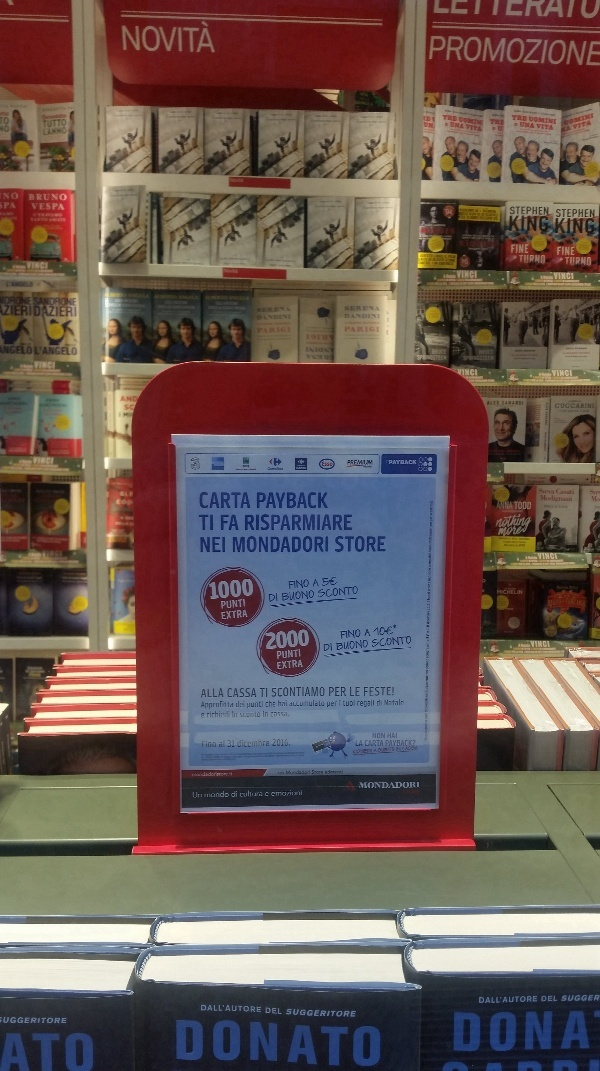text: (424, 499, 432, 744), (177, 1016, 192, 1070), (193, 1016, 208, 1070), (209, 1016, 224, 1070), (225, 1016, 240, 1070), (241, 1016, 256, 1070), (257, 1016, 272, 1070), (273, 1016, 288, 1070), (289, 1016, 304, 1070), (305, 1016, 320, 1070), (321, 1016, 336, 1070), (337, 1016, 352, 1070), (353, 1016, 368, 1070), (465, 1008, 480, 1061), (481, 1008, 496, 1061), (497, 1008, 512, 1061), (513, 1008, 528, 1061), (529, 1008, 544, 1061), (545, 1008, 560, 1061), (561, 1008, 576, 1061), (577, 1008, 592, 1061), (369, 1016, 383, 1070), (433, 33, 448, 74), (449, 33, 464, 74), (465, 33, 480, 74), (481, 33, 496, 74), (497, 33, 512, 74), (513, 33, 528, 74), (529, 33, 544, 74), (545, 33, 560, 74), (561, 33, 576, 74), (577, 33, 592, 74), (453, 1008, 464, 1061), (129, 18, 144, 55), (145, 18, 160, 55), (161, 18, 176, 55), (177, 18, 192, 55), (193, 18, 208, 55), (17, 1033, 32, 1069), (33, 1033, 48, 1069), (49, 1033, 64, 1069), (65, 1033, 80, 1069), (81, 1033, 95, 1069), (257, 307, 272, 334), (273, 307, 288, 334), (497, 513, 512, 539), (513, 513, 528, 539), (209, 295, 224, 320), (225, 295, 240, 320), (209, 577, 224, 601), (225, 577, 240, 601), (449, 1, 464, 24), (465, 1, 480, 24), (481, 1, 496, 24), (497, 1, 512, 24), (513, 1, 528, 24), (529, 1, 544, 24), (545, 1, 560, 24), (561, 1, 576, 24), (577, 1, 592, 24), (337, 512, 353, 533), (241, 577, 255, 601), (273, 629, 288, 651), (289, 629, 304, 651), (7, 1033, 16, 1069), (434, 1, 448, 24), (257, 512, 272, 533), (273, 512, 288, 533), (289, 512, 304, 533), (305, 512, 320, 533), (321, 512, 336, 533), (337, 534, 352, 555), (353, 534, 368, 555), (369, 534, 384, 555), (513, 214, 528, 235), (529, 214, 544, 235), (241, 535, 256, 555), (257, 535, 272, 555), (273, 535, 288, 555), (289, 535, 304, 555), (305, 535, 320, 555), (209, 18, 217, 55), (385, 618, 399, 639), (593, 33, 600, 74), (209, 491, 224, 510), (225, 491, 240, 510), (561, 217, 576, 236), (577, 217, 592, 236), (257, 492, 272, 510), (273, 492, 288, 510), (289, 492, 304, 510), (305, 492, 320, 510), (225, 514, 240, 532), (209, 535, 224, 553), (121, 18, 128, 55), (385, 632, 400, 649), (245, 512, 256, 533), (373, 618, 384, 639), (289, 590, 304, 605), (577, 112, 592, 127), (241, 295, 250, 320), (17, 304, 32, 318), (321, 585, 336, 599), (337, 585, 352, 599), (372, 632, 384, 649), (49, 306, 64, 319), (289, 578, 304, 591), (289, 659, 304, 672), (337, 639, 352, 652), (353, 639, 368, 652), (273, 686, 288, 699), (289, 686, 304, 699), (305, 686, 320, 699), (577, 108, 593, 120), (241, 687, 257, 699), (241, 491, 251, 510), (401, 632, 412, 649), (34, 306, 48, 319), (49, 345, 64, 357), (49, 296, 64, 308), (49, 117, 64, 129), (225, 599, 240, 611), (225, 609, 240, 621), (465, 115, 480, 127), (564, 112, 576, 127), (577, 119, 592, 131), (529, 253, 544, 265), (209, 687, 224, 699), (369, 686, 384, 698), (513, 244, 529, 255), (4, 304, 16, 318), (34, 296, 48, 308), (498, 499, 512, 511), (33, 192, 48, 203), (49, 192, 64, 203), (17, 296, 32, 307), (17, 345, 32, 356), (529, 115, 544, 126), (561, 208, 576, 219), (577, 208, 592, 219), (513, 206, 528, 217), (529, 206, 544, 217), (577, 256, 592, 267), (241, 738, 256, 749), (289, 1008, 304, 1019), (305, 1008, 320, 1019), (321, 1008, 336, 1019), (337, 1008, 352, 1019), (199, 514, 208, 532), (593, 1, 600, 24), (321, 535, 329, 555), (35, 345, 48, 357), (65, 306, 77, 319), (323, 576, 336, 588), (563, 108, 576, 120), (34, 360, 48, 371), (561, 246, 575, 257), (200, 491, 208, 510), (33, 202, 48, 212), (49, 202, 64, 212), (33, 456, 48, 466), (305, 590, 315, 605), (545, 494, 560, 504), (209, 700, 224, 710), (385, 698, 400, 708), (193, 768, 208, 778), (209, 768, 224, 778), (273, 788, 288, 798), (209, 1004, 224, 1014), (225, 1004, 240, 1014), (241, 1004, 256, 1014), (481, 995, 496, 1005), (497, 995, 512, 1005), (513, 995, 528, 1005), (33, 261, 49, 270), (65, 345, 77, 357), (65, 296, 77, 308), (228, 687, 240, 699), (481, 239, 497, 248), (3, 191, 16, 202), (3, 345, 16, 356), (289, 649, 302, 660), (277, 659, 288, 672), (341, 628, 352, 641), (323, 642, 336, 653), (515, 501, 528, 512), (257, 738, 270, 749), (233, 535, 240, 555), (530, 639, 544, 649), (466, 123, 480, 133), (562, 124, 576, 134), (17, 280, 32, 289), (49, 127, 64, 136), (17, 1016, 32, 1025), (33, 1016, 48, 1025), (49, 1016, 64, 1025), (449, 109, 464, 118), (465, 109, 480, 118), (529, 109, 544, 118), (401, 739, 416, 748), (209, 710, 224, 719), (273, 739, 288, 748), (241, 789, 256, 798), (369, 781, 384, 790), (385, 781, 400, 790), (401, 781, 416, 790), (577, 994, 592, 1003), (433, 227, 448, 236), (465, 239, 480, 248), (4, 116, 16, 127), (266, 629, 272, 651), (545, 115, 557, 126), (260, 687, 272, 698), (561, 271, 574, 281), (465, 270, 478, 280), (465, 367, 478, 377), (289, 788, 302, 798), (321, 492, 328, 510), (201, 535, 208, 553), (514, 109, 528, 118), (386, 739, 400, 748), (562, 994, 576, 1003), (306, 333, 320, 342), (321, 333, 335, 342), (306, 346, 320, 355), (321, 346, 335, 355), (5, 296, 16, 307), (277, 649, 288, 660), (565, 256, 576, 267), (357, 699, 368, 710), (4, 201, 16, 211), (561, 494, 573, 504), (289, 700, 304, 708), (305, 700, 320, 708), (369, 739, 384, 747), (193, 791, 208, 799), (209, 791, 224, 799), (241, 711, 256, 719), (289, 769, 304, 777), (353, 748, 368, 756), (353, 305, 368, 313), (353, 326, 368, 334), (193, 456, 201, 471), (353, 628, 362, 641), (355, 99, 368, 108), (451, 121, 464, 130), (339, 699, 352, 708), (387, 731, 400, 740), (561, 488, 575, 496), (401, 459, 417, 466), (402, 745, 416, 753), (305, 629, 310, 651), (4, 1016, 16, 1025), (519, 253, 528, 265), (337, 686, 346, 698), (385, 686, 394, 698), (228, 740, 240, 749), (33, 217, 48, 224), (49, 217, 64, 224), (161, 294, 176, 301), (497, 589, 512, 596), (561, 402, 576, 409), (577, 402, 592, 409), (353, 459, 368, 466), (273, 711, 288, 718), (353, 313, 368, 320), (545, 995, 558, 1003), (5, 125, 16, 134), (545, 109, 556, 118), (421, 227, 432, 236), (34, 212, 48, 219), (49, 212, 63, 219), (513, 115, 527, 122), (386, 459, 400, 466), (241, 609, 249, 621), (561, 369, 573, 377), (356, 739, 368, 747), (369, 305, 381, 313), (115, 298, 128, 305), (209, 514, 214, 532), (113, 292, 128, 298), (129, 293, 144, 299), (282, 590, 288, 605), (545, 487, 555, 496), (225, 700, 234, 710), (247, 700, 256, 710), (278, 699, 288, 708), (529, 995, 538, 1005), (373, 732, 384, 740), (325, 768, 336, 776), (322, 461, 336, 467), (353, 585, 359, 599), (498, 126, 512, 132), (545, 214, 549, 235), (329, 686, 336, 698), (353, 686, 360, 698), (7, 280, 16, 289), (545, 122, 554, 131), (343, 699, 352, 708), (359, 781, 368, 790), (289, 307, 292, 334), (209, 739, 217, 749), (225, 768, 233, 778), (278, 769, 288, 777), (385, 746, 395, 754), (369, 326, 379, 334), (3, 211, 16, 217), (179, 295, 192, 301), (515, 122, 528, 128), (529, 513, 532, 539), (49, 360, 56, 371), (165, 299, 176, 306), (177, 299, 188, 306), (369, 313, 380, 320), (556, 217, 560, 236), (49, 403, 64, 408), (42, 117, 48, 129), (129, 395, 138, 403), (449, 114, 457, 123), (202, 687, 208, 699), (327, 701, 336, 709), (232, 710, 240, 719), (263, 710, 272, 718), (232, 790, 240, 799), (369, 748, 378, 756), (273, 1008, 282, 1016), (129, 298, 139, 305), (513, 589, 523, 596), (553, 271, 560, 281), (457, 270, 464, 280), (201, 1004, 208, 1014), (273, 466, 284, 472), (369, 699, 375, 710), (243, 464, 256, 469), (305, 578, 310, 591), (424, 115, 432, 123), (424, 121, 432, 129), (520, 121, 528, 129), (552, 369, 560, 377), (537, 122, 544, 131), (593, 487, 600, 496), (593, 994, 600, 1003), (49, 456, 55, 466), (241, 599, 246, 611), (545, 639, 551, 649), (459, 115, 464, 127), (202, 700, 208, 710), (257, 700, 263, 710), (266, 698, 272, 708), (202, 739, 208, 749), (497, 401, 512, 405), (497, 118, 504, 126), (377, 699, 384, 707), (312, 769, 320, 776), (337, 768, 344, 776), (345, 305, 352, 313), (345, 326, 352, 334), (315, 578, 320, 589), (273, 593, 278, 604), (221, 514, 224, 532), (257, 789, 263, 798), (175, 1016, 176, 1070), (449, 227, 455, 236), (321, 686, 325, 699), (49, 398, 59, 403), (219, 739, 224, 749), (257, 1004, 262, 1014), (206, 295, 208, 320), (201, 712, 208, 719), (265, 791, 272, 798), (345, 313, 352, 320), (129, 404, 135, 412), (490, 118, 496, 126), (529, 121, 535, 129), (572, 119, 576, 131), (364, 686, 368, 698), (305, 769, 311, 777), (378, 746, 384, 754), (266, 1008, 272, 1016), (27, 261, 32, 270), (43, 127, 48, 136), (39, 403, 48, 408), (369, 99, 374, 108), (443, 114, 448, 123), (539, 487, 544, 496), (225, 710, 230, 719), (556, 208, 560, 219), (545, 206, 549, 217), (513, 401, 524, 405), (385, 534, 387, 555), (105, 292, 112, 298), (510, 214, 512, 235), (431, 33, 432, 74), (296, 466, 304, 471), (123, 395, 128, 403), (225, 791, 230, 799), (145, 293, 151, 299), (193, 295, 199, 301), (221, 599, 224, 611), (221, 609, 224, 621), (236, 700, 240, 709), (241, 700, 245, 709), (417, 781, 421, 790), (460, 239, 464, 248), (155, 294, 160, 301), (555, 402, 560, 409), (29, 192, 32, 203), (65, 192, 68, 203), (269, 593, 272, 604), (557, 246, 560, 257), (529, 501, 532, 512), (353, 1008, 356, 1019), (321, 700, 325, 708), (257, 711, 261, 719), (488, 401, 496, 405), (465, 258, 469, 266), (541, 494, 544, 504), (273, 698, 276, 708), (401, 698, 404, 708), (318, 585, 320, 599), (348, 459, 352, 466), (369, 459, 373, 466), (396, 746, 400, 753), (449, 209, 453, 216), (445, 109, 448, 118), (589, 487, 592, 496), (65, 117, 67, 129), (12, 396, 16, 402), (17, 396, 21, 402), (268, 466, 272, 472), (125, 404, 128, 412), (481, 115, 483, 127), (557, 488, 560, 496), (350, 686, 352, 698), (365, 739, 368, 747), (205, 791, 208, 799), (17, 191, 19, 202), (369, 627, 371, 638), (593, 208, 595, 219), (510, 206, 512, 217), (238, 738, 240, 749), (335, 534, 336, 555), (321, 769, 324, 776), (445, 209, 448, 216), (481, 123, 483, 133), (593, 217, 594, 236), (65, 127, 67, 136), (65, 1016, 67, 1025), (225, 535, 226, 553), (481, 109, 483, 118), (445, 122, 448, 128), (493, 126, 496, 132), (353, 699, 355, 708), (289, 739, 291, 748), (286, 769, 288, 777), (417, 745, 419, 753), (542, 995, 544, 1003), (462, 258, 464, 266), (593, 112, 594, 127), (191, 456, 192, 471), (30, 217, 32, 224), (65, 217, 67, 224), (593, 402, 595, 409), (271, 686, 272, 699), (337, 576, 338, 588), (433, 117, 435, 123), (545, 253, 546, 265), (513, 499, 514, 511), (367, 627, 368, 638), (511, 244, 512, 255), (287, 1008, 288, 1019), (31, 202, 32, 212), (65, 202, 66, 212), (46, 398, 48, 403), (65, 403, 67, 408), (305, 466, 307, 471), (463, 367, 464, 377), (271, 788, 272, 798), (479, 995, 480, 1005), (33, 280, 34, 289), (207, 710, 208, 719), (433, 121, 434, 129), (337, 701, 338, 709), (177, 294, 178, 301), (271, 711, 272, 718), (289, 711, 290, 718)
